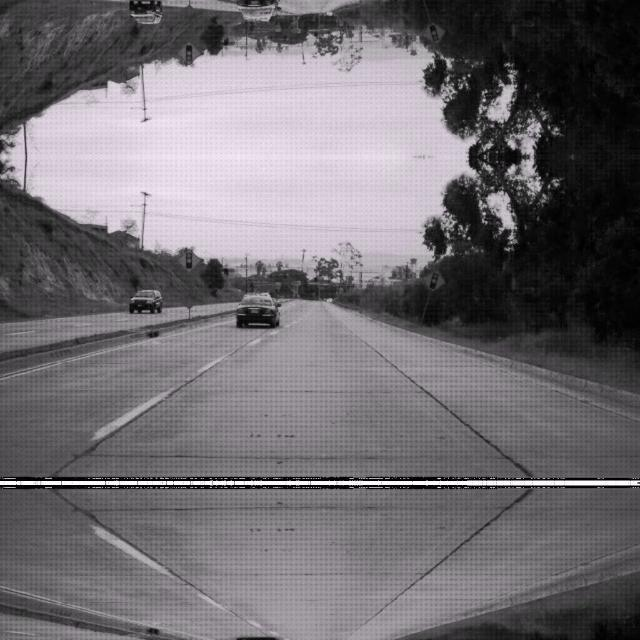signalAhead: (420, 266, 446, 292), (420, 20, 446, 46), (176, 246, 200, 272), (176, 40, 200, 66)
